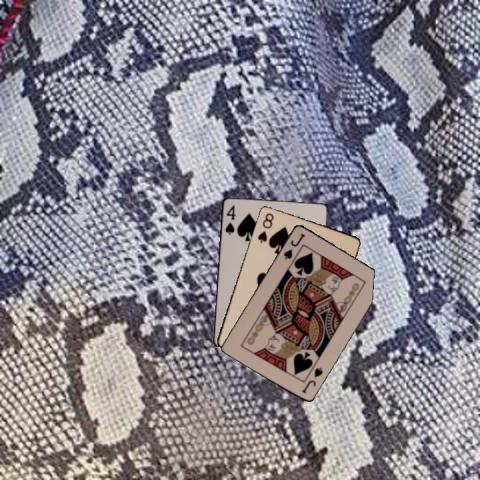4s: (222, 202, 237, 236)
8s: (255, 209, 275, 244)
Js: (280, 230, 306, 261), (299, 364, 324, 395)
